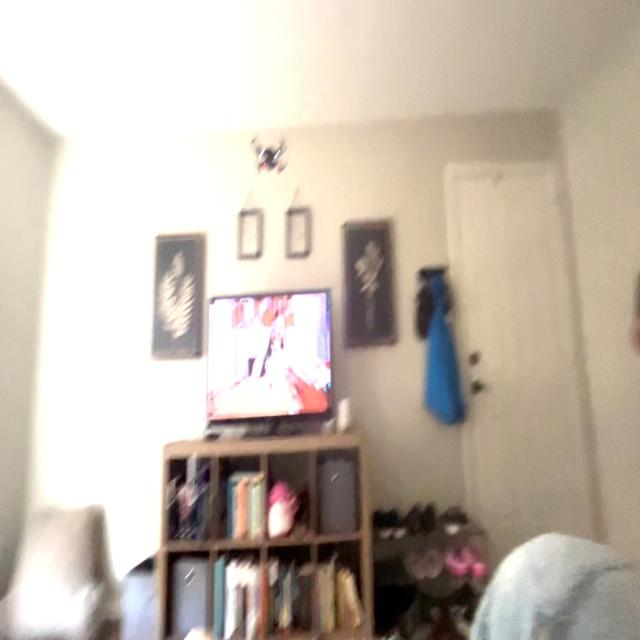drone: (242, 116, 301, 194)
